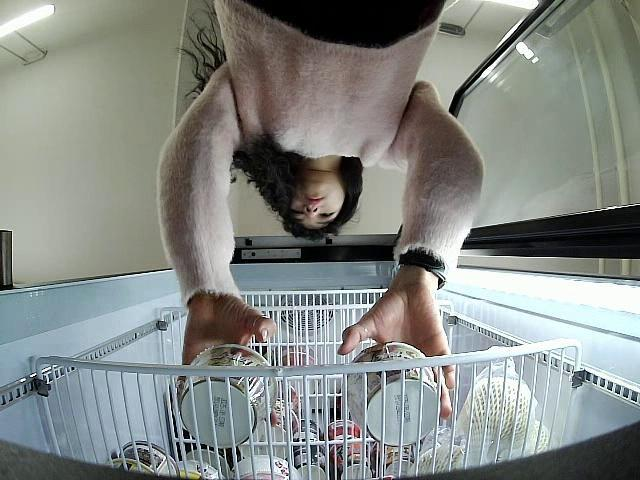04_chapagetti_S: (176, 346, 282, 450), (342, 342, 441, 450)
